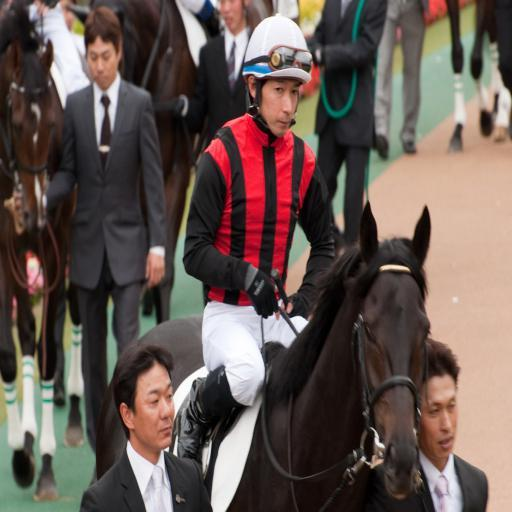Horse: (95, 198, 431, 512), (88, 0, 273, 330), (0, 5, 85, 502)
